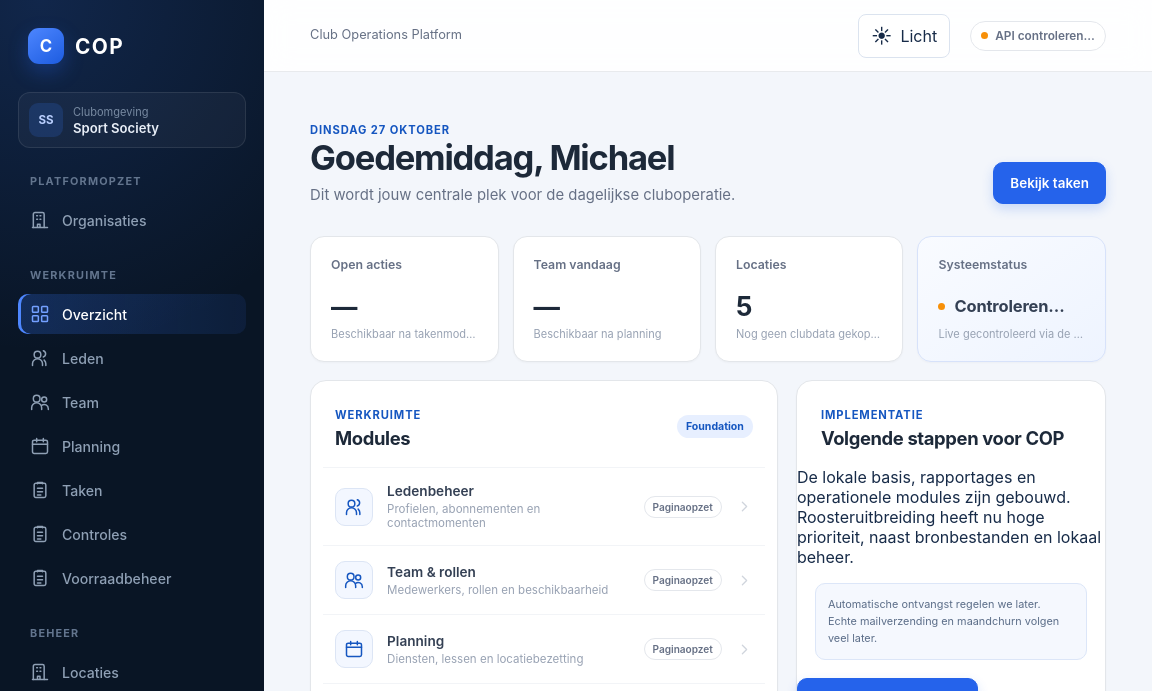
Test: module navigation › navigates from the sidebar and marks the active page
The width and height of the screenshot is (1152, 691).
Step 1. Click the link "Leden" → (67, 358), box [30, 348, 104, 368]
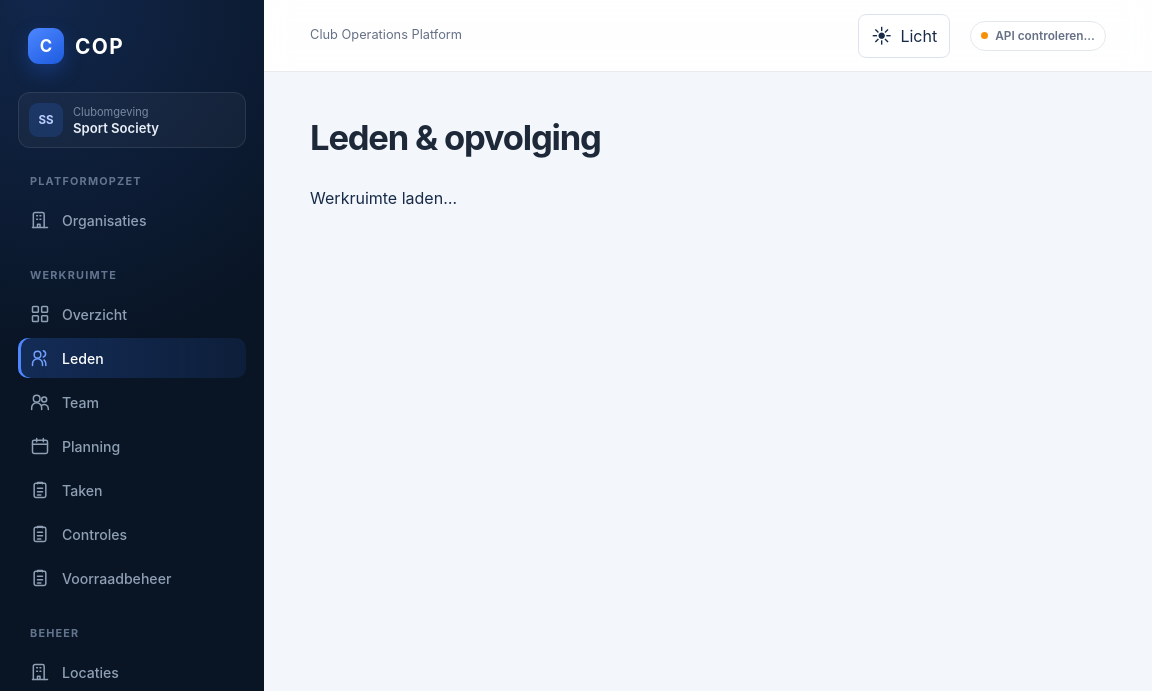
Expected: the heading "Leden & opvolging" is shown, [310, 117, 601, 158]
